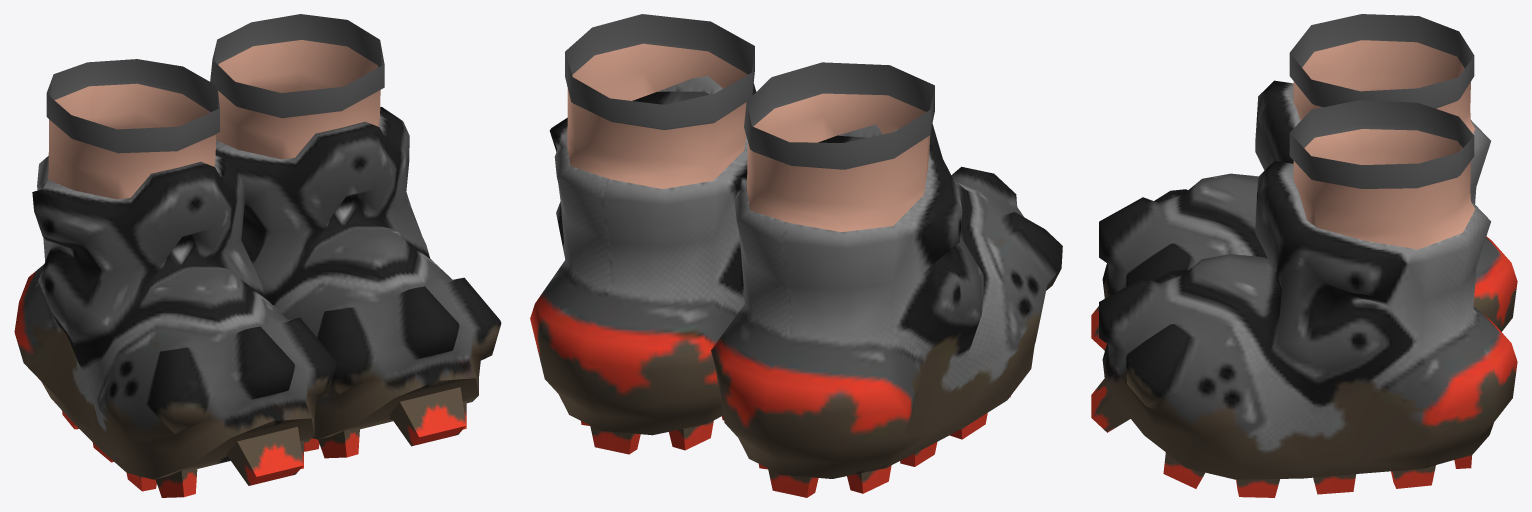
3 renders of one model, left to right at view 1: azimuth 30°, elevation 25°; view 2: azimuth 150°, elevation 25°; view 3: azimuth 270°, elevation 25°, orthographic. The views are drawn at different scales.
Parts seen in each view (by area): view 1: model_0_submesh_0, model_0_submesh_1; view 2: model_0_submesh_0, model_0_submesh_1; view 3: model_0_submesh_0, model_0_submesh_1.
Boxes of the visible parts, bbox=[...] form: model_0_submesh_0: bbox=[14, 107, 501, 497]; model_0_submesh_1: bbox=[46, 14, 384, 199]; model_0_submesh_0: bbox=[530, 75, 1062, 497]; model_0_submesh_1: bbox=[565, 14, 934, 232]; model_0_submesh_0: bbox=[1091, 80, 1517, 497]; model_0_submesh_1: bbox=[1289, 14, 1475, 249].
Bounding box in the file's own units: 0.401 × 0.3499 × 0.3997.
